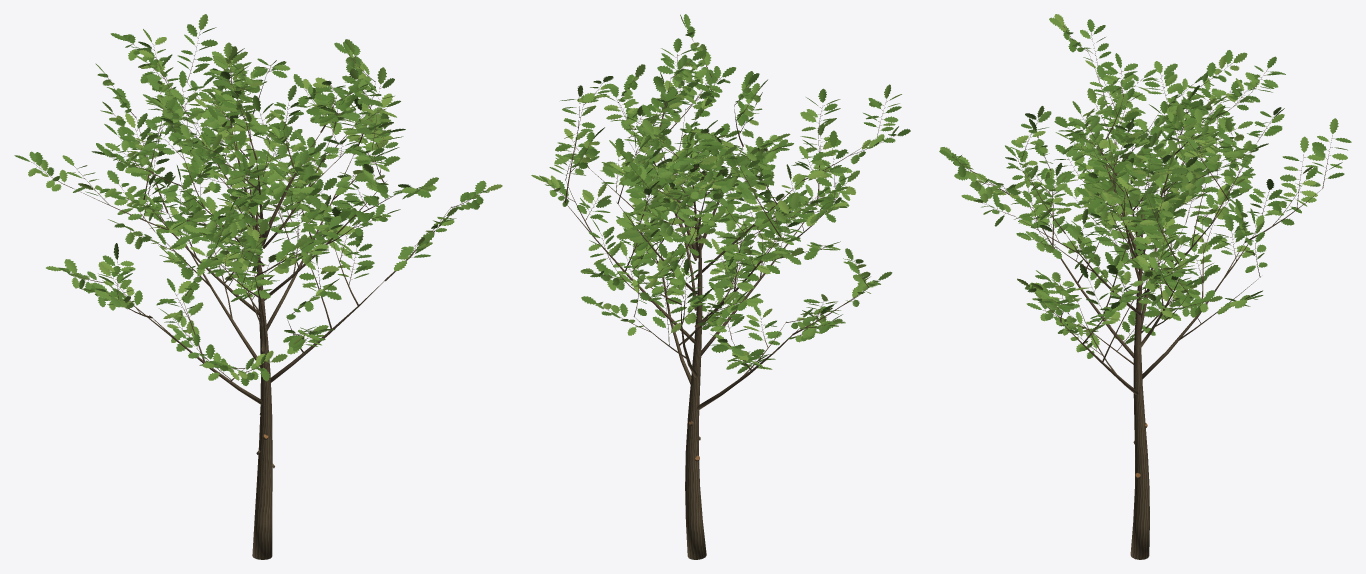
Rendered from Sessile_Oak_Young_01_MediumPruned_Recent_LOD0.fbx.
3 views of the same model, side by side, from view 1: azimuth 30°, elevation 25°; view 2: azimuth 150°, elevation 25°; view 3: azimuth 270°, elevation 25° (orthographic). The views are drawn at different scales.
Parts seen in each view (by area): view 1: Sessile_Oak_Young_01_MediumPruned_Recent_LOD0; view 2: Sessile_Oak_Young_01_MediumPruned_Recent_LOD0; view 3: Sessile_Oak_Young_01_MediumPruned_Recent_LOD0.
Part boxes in pixels (x1,y1,x2,y2): Sessile_Oak_Young_01_MediumPruned_Recent_LOD0: (14, 14, 502, 559); Sessile_Oak_Young_01_MediumPruned_Recent_LOD0: (531, 14, 910, 559); Sessile_Oak_Young_01_MediumPruned_Recent_LOD0: (939, 14, 1351, 559).
Bounding box in the file's own units: 632 × 799 × 620.
6 materials, 2 textured.
